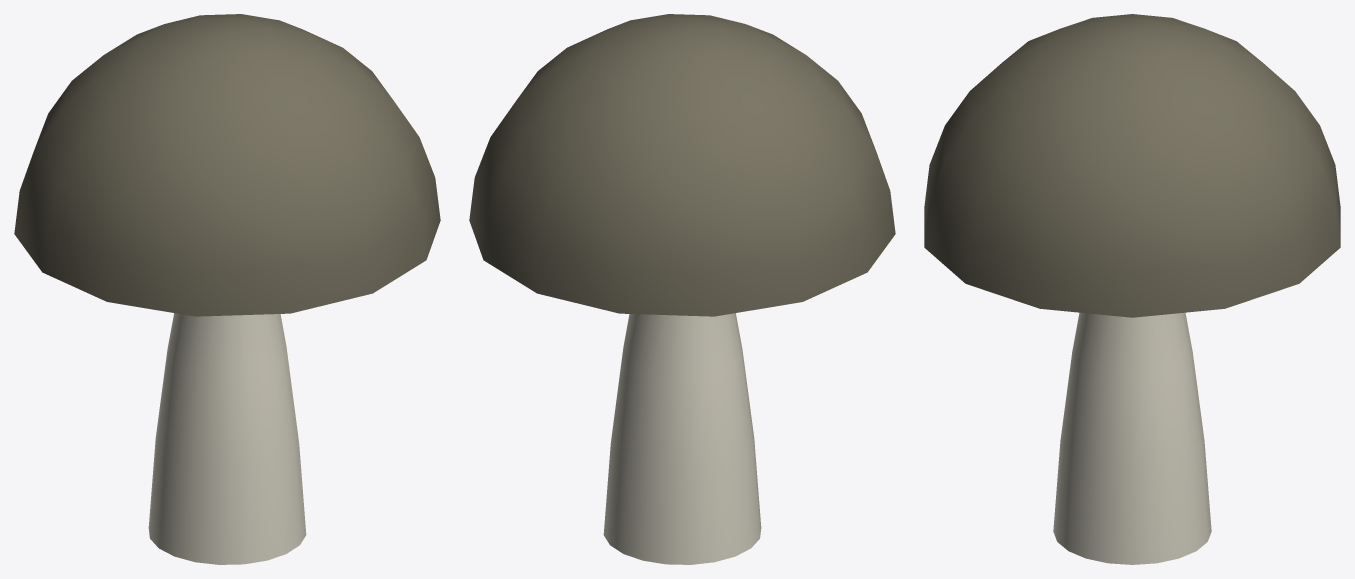
Rendered from paddenstoel4.fbx.
3 renders of one model, left to right at view 1: azimuth 30°, elevation 25°; view 2: azimuth 150°, elevation 25°; view 3: azimuth 270°, elevation 25°, orthographic.
Parts seen in each view (by area): view 1: polySurface183; view 2: polySurface183; view 3: polySurface183.
Boxes of the visible parts, x1,y1,x2,y2 form: polySurface183: (14,14,440,564); polySurface183: (469,14,895,564); polySurface183: (924,14,1340,564).
Size of the model in its own units: 0.4257 by 0.5472 by 0.415.
